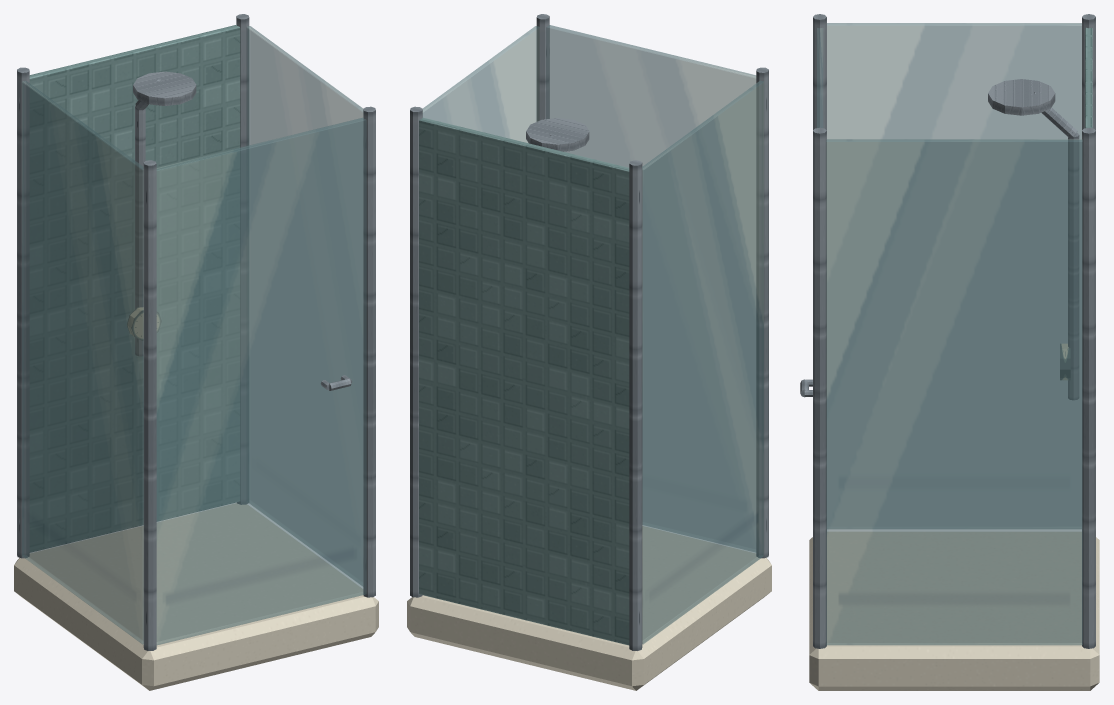
The model's file is MD_92_ShowerCubicle.fbx.
3 views of the same model, side by side, from view 1: azimuth 30°, elevation 25°; view 2: azimuth 150°, elevation 25°; view 3: azimuth 270°, elevation 25° (orthographic). The views are drawn at different scales.
Parts seen in each view (by area): view 1: MD_92_ShowerCubicle_hinged_shower_door, MD_92_ShowerCubicle_shower_rear, MD_92_ShowerCubicle_fixed_glass, MD_92_ShowerCubicle_fixed_glass.001, MD_92_ShowerCubicle_shower_tray, MD_92_ShowerCubicle_shower_frame, MD_92_ShowerCubicle_shower_frame.001, MD_92_ShowerCubicle_shower_frame.002, MD_92_ShowerCubicle_shower_frame.003, MD_92_ShowerCubicle_shower_pipe_0, MD_92_ShowerCubicle_rain_head; view 2: MD_92_ShowerCubicle_shower_rear, MD_92_ShowerCubicle_hinged_shower_door, MD_92_ShowerCubicle_fixed_glass, MD_92_ShowerCubicle_shower_tray, MD_92_ShowerCubicle_fixed_glass.001, MD_92_ShowerCubicle_shower_frame.001, MD_92_ShowerCubicle_shower_frame, MD_92_ShowerCubicle_shower_frame.003, MD_92_ShowerCubicle_rain_head, MD_92_ShowerCubicle_shower_frame.002; view 3: MD_92_ShowerCubicle_fixed_glass.001, MD_92_ShowerCubicle_fixed_glass, MD_92_ShowerCubicle_shower_tray, MD_92_ShowerCubicle_shower_frame.002, MD_92_ShowerCubicle_shower_frame.003, MD_92_ShowerCubicle_shower_pipe_0, MD_92_ShowerCubicle_rain_head, MD_92_ShowerCubicle_shower_frame, MD_92_ShowerCubicle_shower_frame.001, MD_92_ShowerCubicle_shower_rear, MD_92_ShowerCubicle_hinged_shower_door.
Boxes of the visible parts, x1,y1,x2,y2 form: MD_92_ShowerCubicle_hinged_shower_door: (156,118,366,645); MD_92_ShowerCubicle_shower_rear: (29,25,240,552); MD_92_ShowerCubicle_fixed_glass: (22,81,143,644); MD_92_ShowerCubicle_fixed_glass.001: (246,26,363,585); MD_92_ShowerCubicle_shower_tray: (14,503,378,690); MD_92_ShowerCubicle_shower_frame: (143,160,156,650); MD_92_ShowerCubicle_shower_frame.001: (17,67,29,558); MD_92_ShowerCubicle_shower_frame.002: (363,106,375,597); MD_92_ShowerCubicle_shower_frame.003: (236,14,249,504); MD_92_ShowerCubicle_shower_pipe_0: (135,105,145,355); MD_92_ShowerCubicle_rain_head: (133,71,196,105); MD_92_ShowerCubicle_shower_rear: (419,117,629,645); MD_92_ShowerCubicle_hinged_shower_door: (546,25,756,552); MD_92_ShowerCubicle_fixed_glass: (642,81,763,644); MD_92_ShowerCubicle_shower_tray: (407,526,771,690); MD_92_ShowerCubicle_fixed_glass.001: (422,26,539,142); MD_92_ShowerCubicle_shower_frame.001: (629,160,642,650); MD_92_ShowerCubicle_shower_frame: (756,67,768,558); MD_92_ShowerCubicle_shower_frame.003: (410,106,422,597); MD_92_ShowerCubicle_rain_head: (526,118,589,151); MD_92_ShowerCubicle_shower_frame.002: (536,14,549,121); MD_92_ShowerCubicle_fixed_glass.001: (826,139,1082,645); MD_92_ShowerCubicle_fixed_glass: (827,23,1081,528); MD_92_ShowerCubicle_shower_tray: (809,532,1099,690); MD_92_ShowerCubicle_shower_frame.002: (813,127,826,648); MD_92_ShowerCubicle_shower_frame.003: (1082,127,1095,648); MD_92_ShowerCubicle_shower_pipe_0: (1068,133,1079,399); MD_92_ShowerCubicle_rain_head: (988,79,1055,115); MD_92_ShowerCubicle_shower_frame: (813,14,826,130); MD_92_ShowerCubicle_shower_frame.001: (1082,14,1095,130); MD_92_ShowerCubicle_shower_rear: (1085,27,1092,128); MD_92_ShowerCubicle_hinged_shower_door: (817,28,822,127).
Size of the model in its own units: 0.95 by 2.02 by 0.979.
5 materials, 5 textured.
